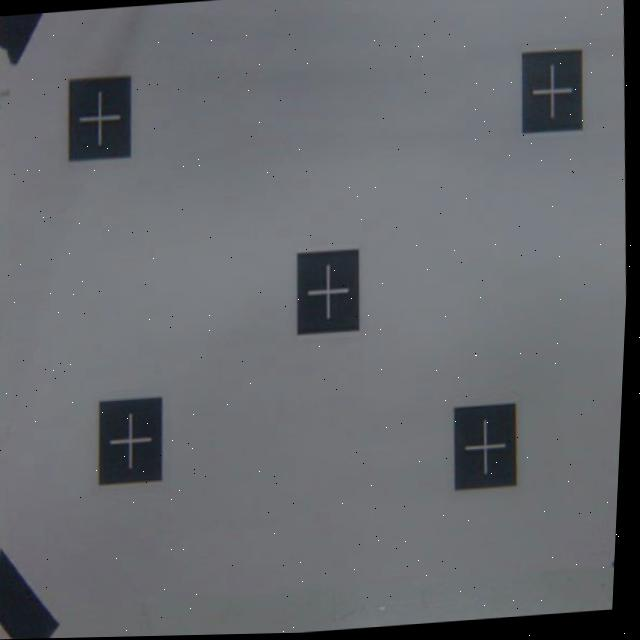dot: (93, 393, 165, 485), (292, 251, 364, 337), (64, 74, 136, 160), (451, 403, 521, 491), (517, 47, 586, 135)
